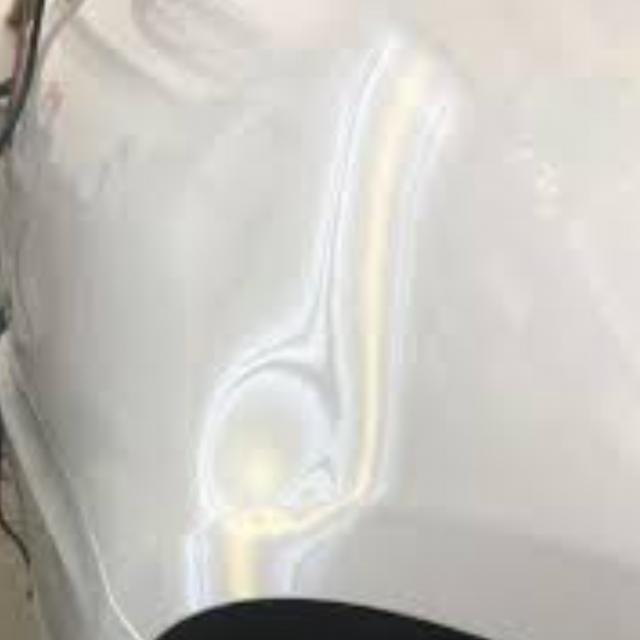dents: (191, 330, 394, 565)
